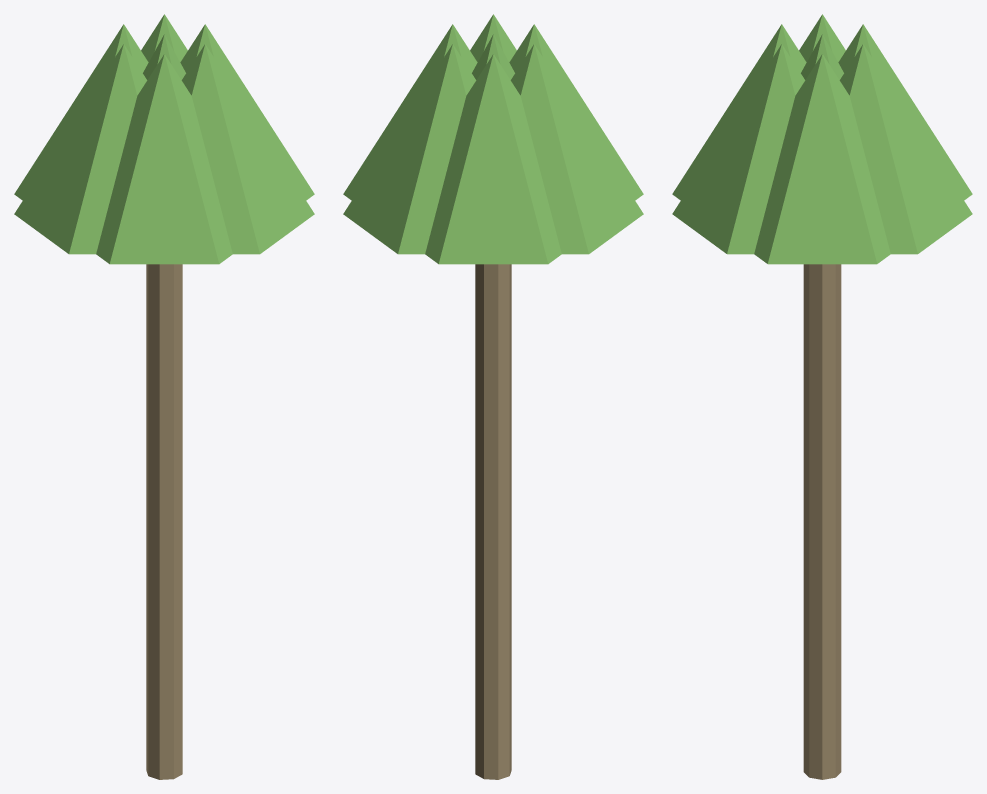
The model's file is palm.glb.
The picture shows the model from 3 angles, left to right: view 1: azimuth 30°, elevation 25°; view 2: azimuth 150°, elevation 25°; view 3: azimuth 270°, elevation 25°; orthographic projection.
Visible parts, largest first — view 1: Palm; view 2: Palm; view 3: Palm.
Part boxes in pixels (box(x1,y1,x2,y2)): Palm: box(14, 14, 314, 779); Palm: box(343, 14, 643, 779); Palm: box(672, 14, 972, 779).
Bounding box in the file's own units: 0.9062 × 2.6 × 0.9598.
